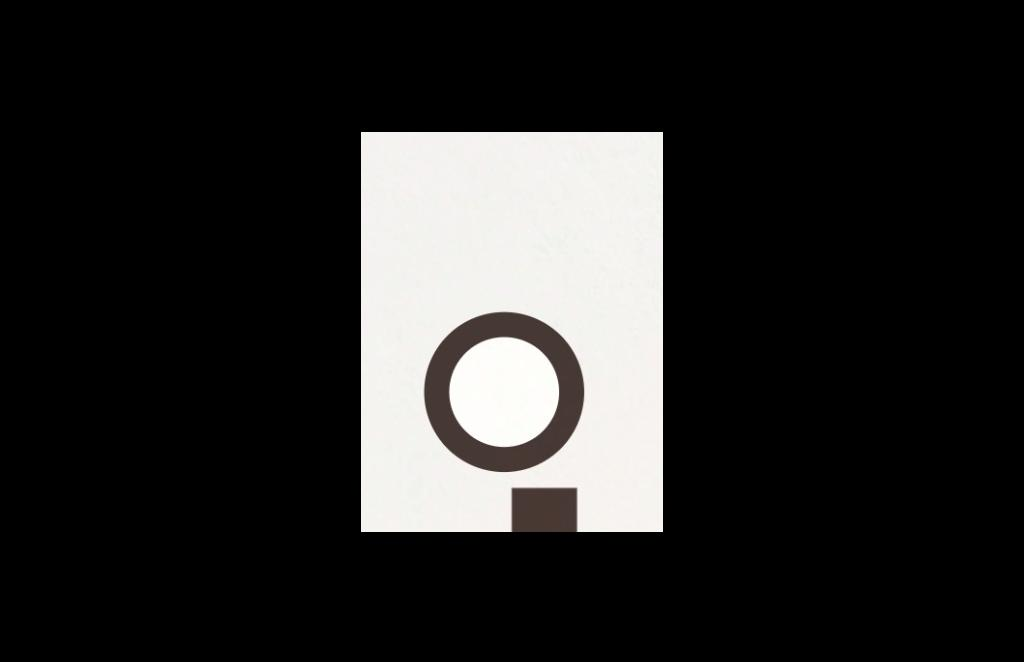unconnected_station: (390, 294, 602, 497)
